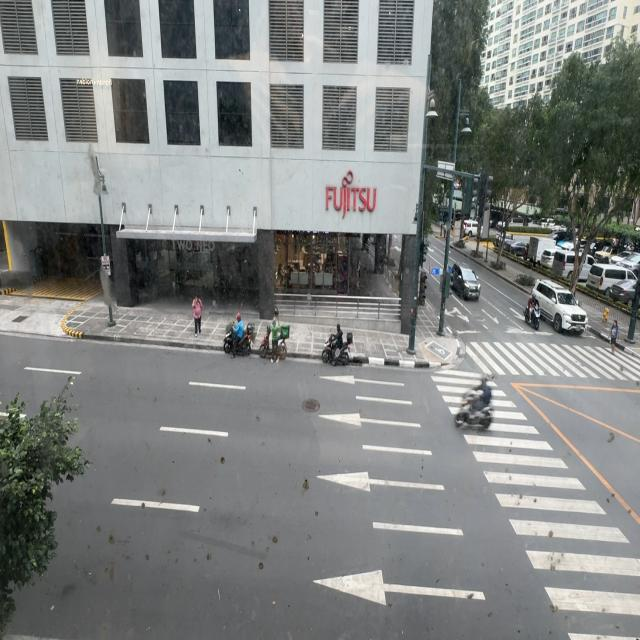pedestrain: (192, 295, 202, 336)
waiting: (610, 319, 619, 354)
